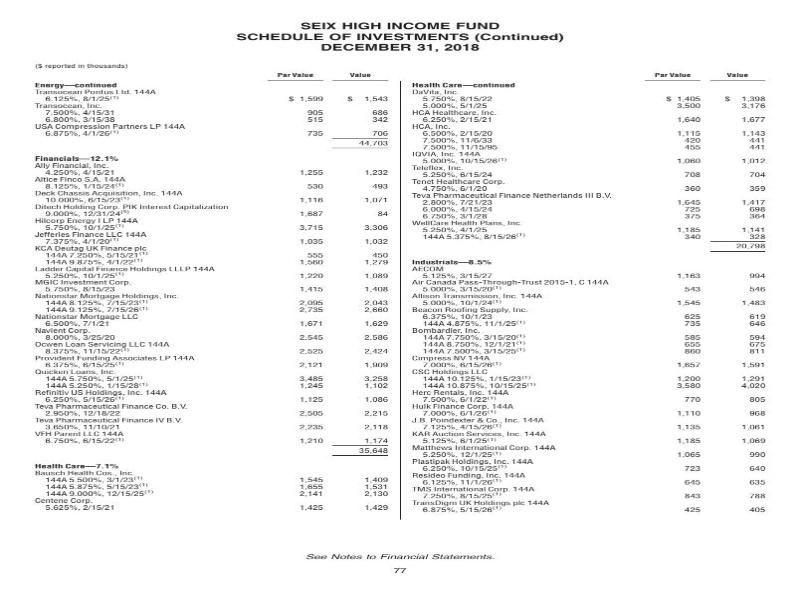table: (393, 65, 787, 530), (26, 55, 409, 533)
